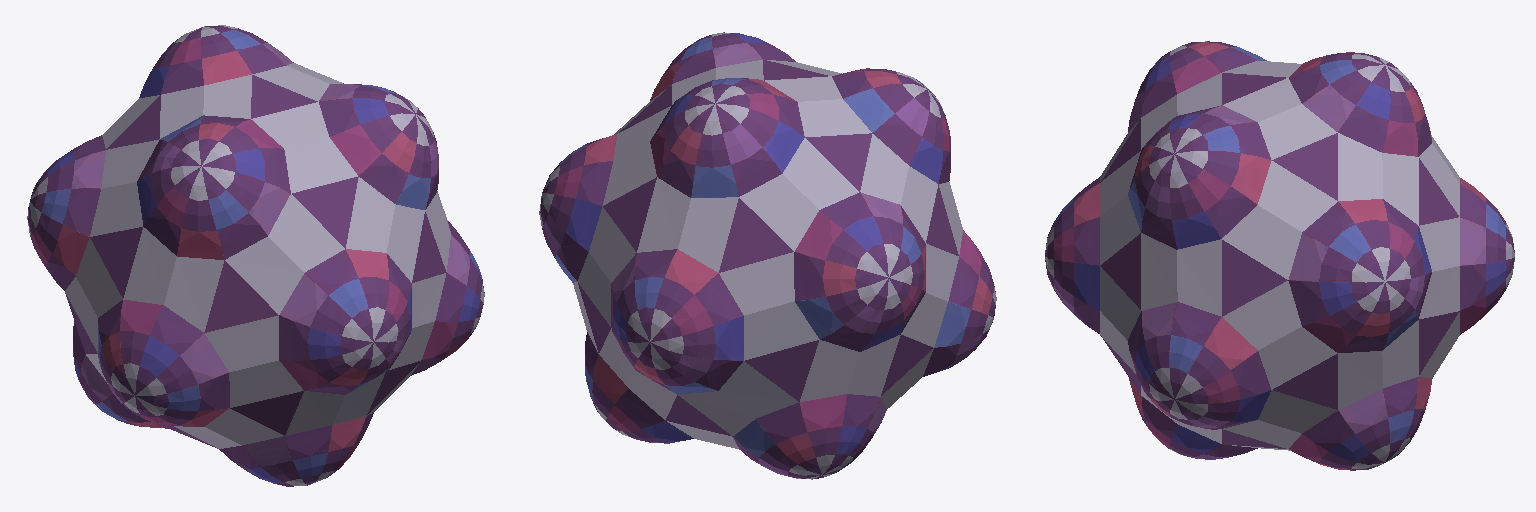
3 views of the same model, side by side, from view 1: azimuth 30°, elevation 25°; view 2: azimuth 150°, elevation 25°; view 3: azimuth 270°, elevation 25° (orthographic).
Visible parts, largest first — view 1: core_13_0; view 2: core_13_0; view 3: core_13_0.
Part boxes in pixels (x1,y1,x2,y2): core_13_0: (27, 25, 484, 486); core_13_0: (539, 32, 996, 479); core_13_0: (1045, 41, 1514, 470).
Bounding box in the file's own units: 0.0478 × 0.0494 × 0.0537.
Materials: 1 (1 with a texture image).